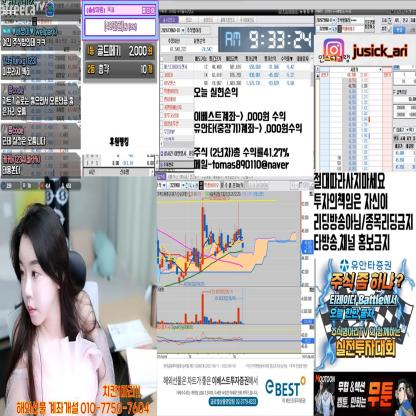streamer: (4, 201, 120, 416)
